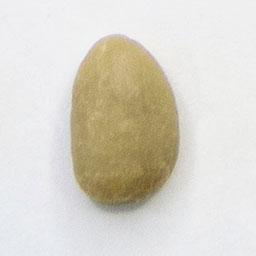longberry: (64, 30, 185, 211)
